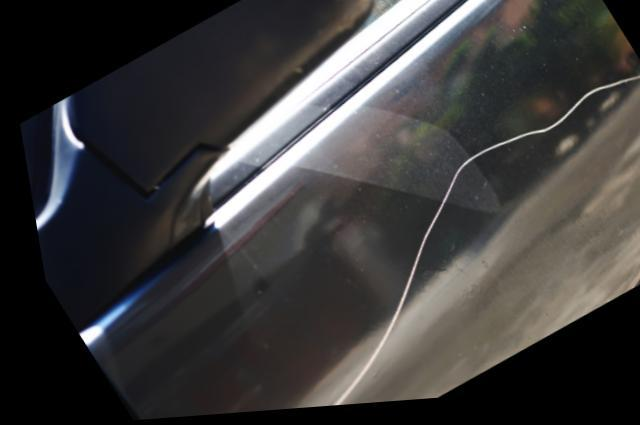scratch: (312, 81, 640, 410)
